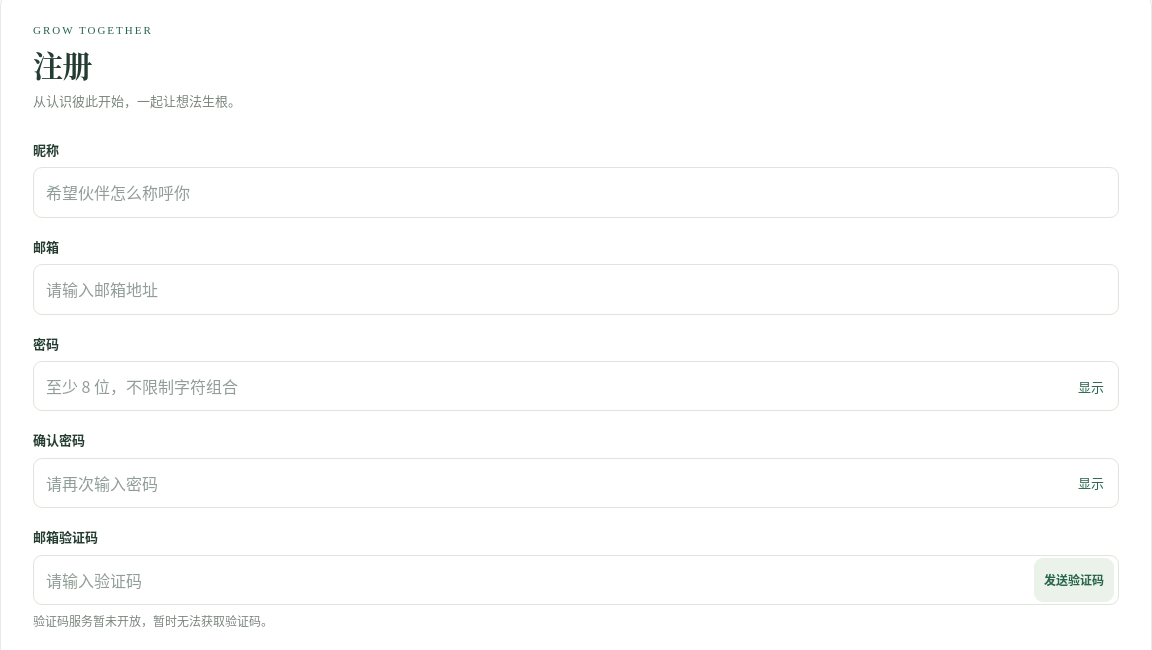
Test: 登录注册表单 › 注册保留密码空格、不猜验证码格式、不请求或持久化敏感数据
Type "禾苗" into the field with id "auth-nickname" at (576, 193), box [34,168,1118,217]
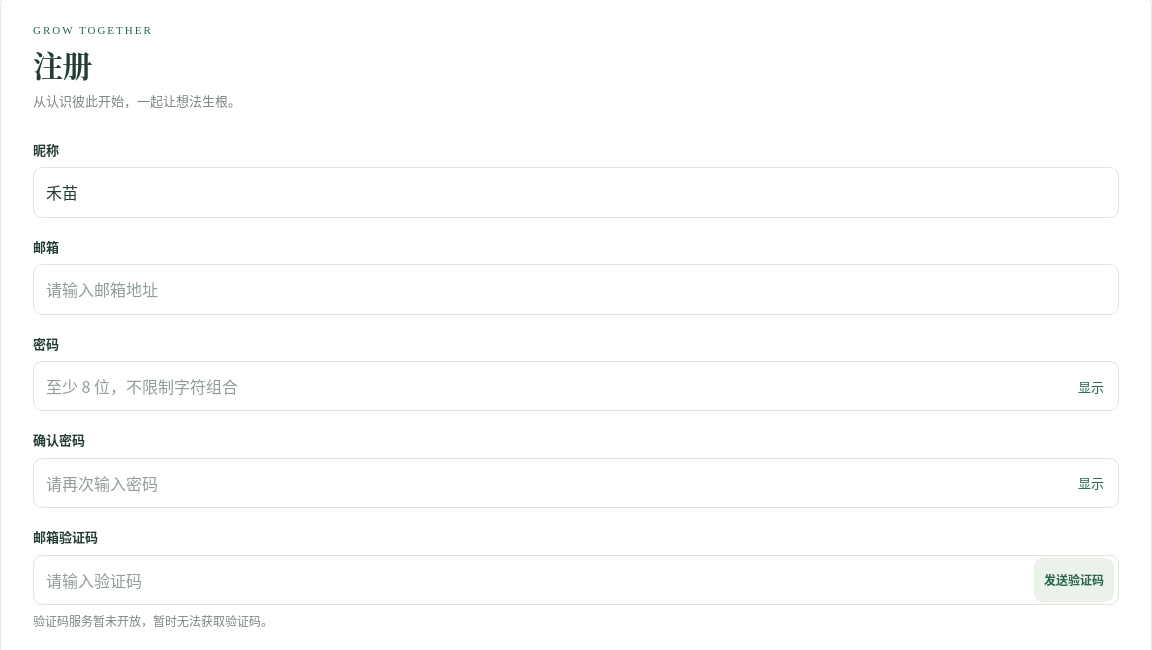
Type "student@example.com" into the field labelled "邮箱" at (576, 289), box [34,265,1118,314]
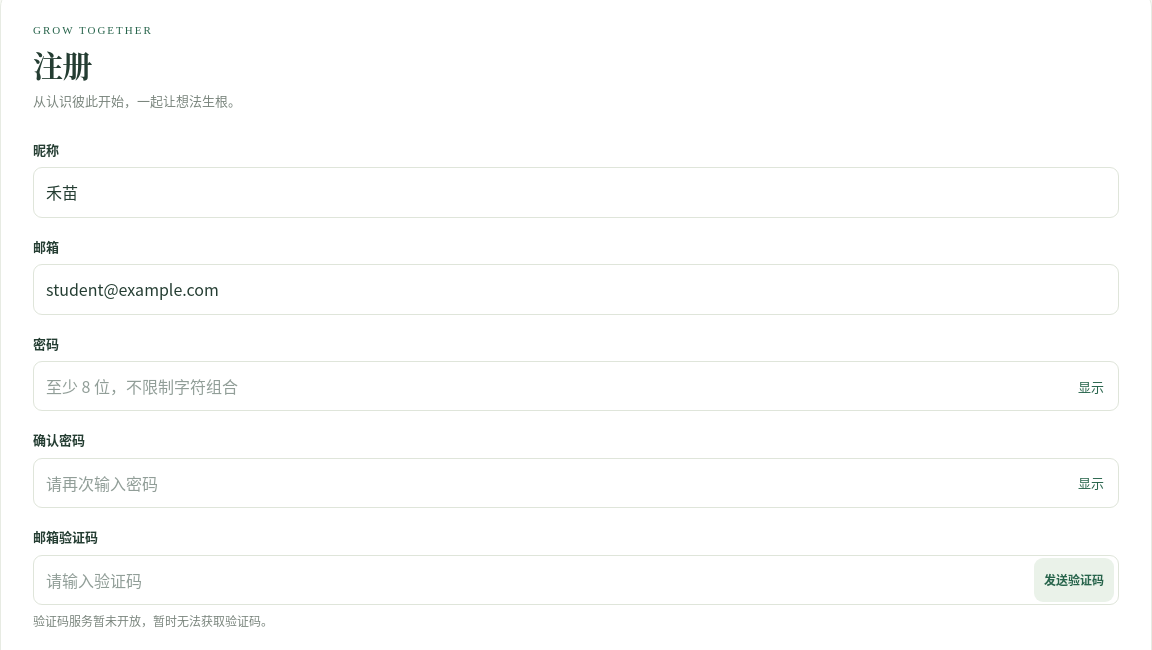
Type " 123456 " into the password field with id "auth-password" at (551, 386), box [34,362,1068,410]
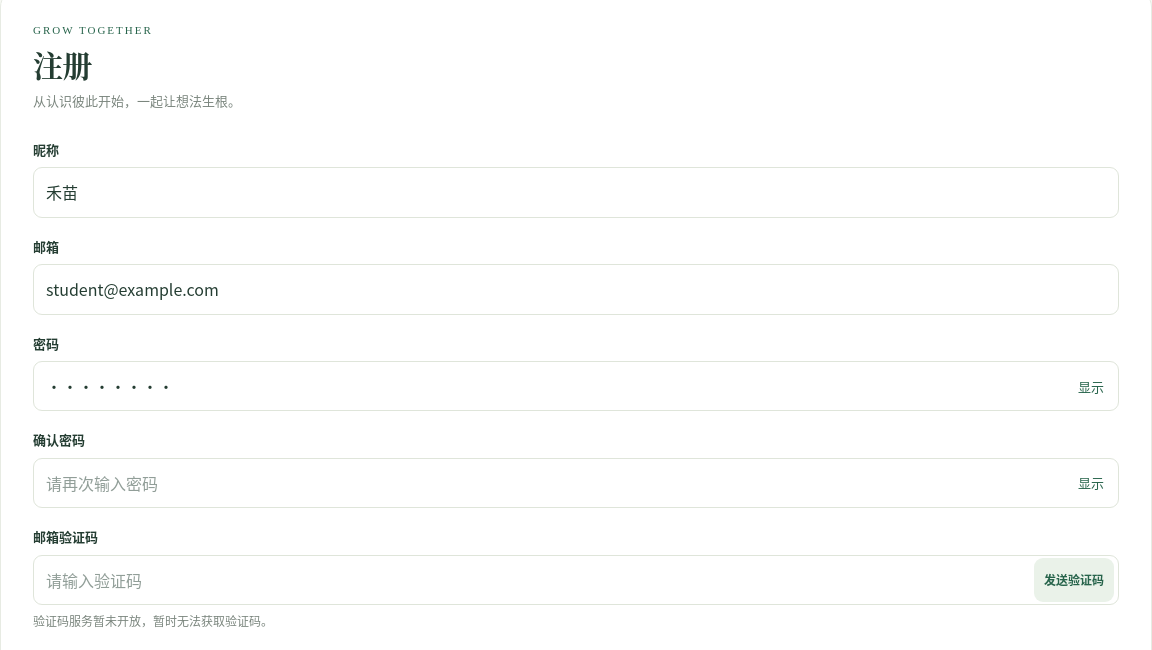
Type " 123456 " into the password field labelled "确认密码" at (551, 483), box [34,459,1068,507]
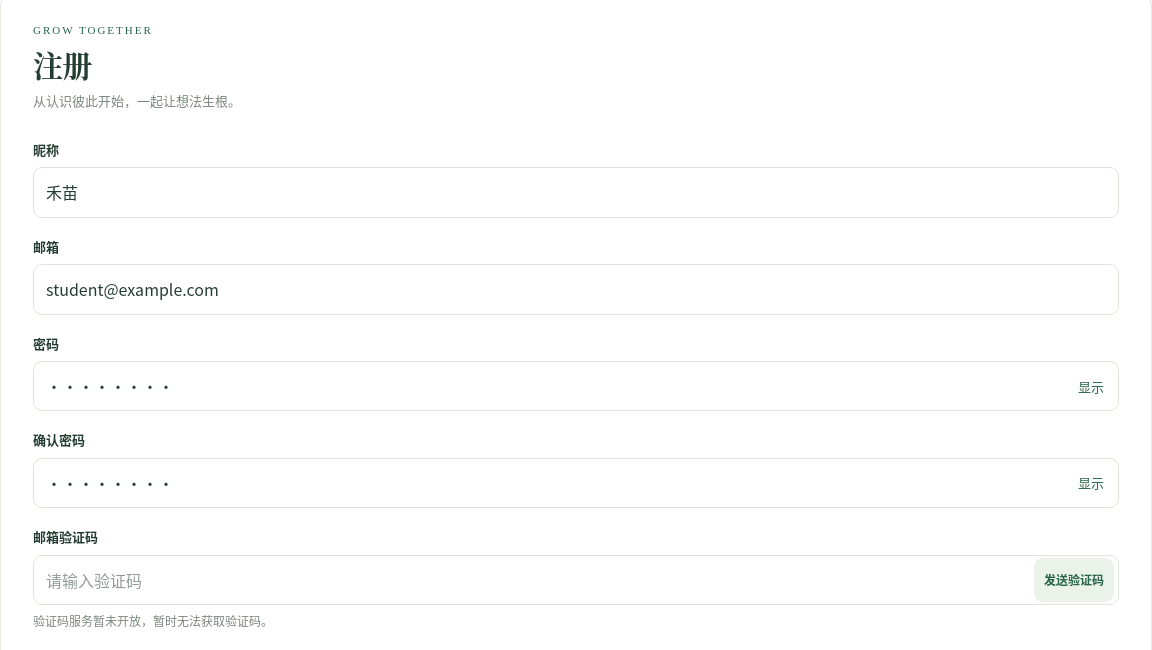
Type "arbitrary-code" into the field labelled "邮箱验证码" at (534, 580), box [34,556,1034,604]
(page scrolled)
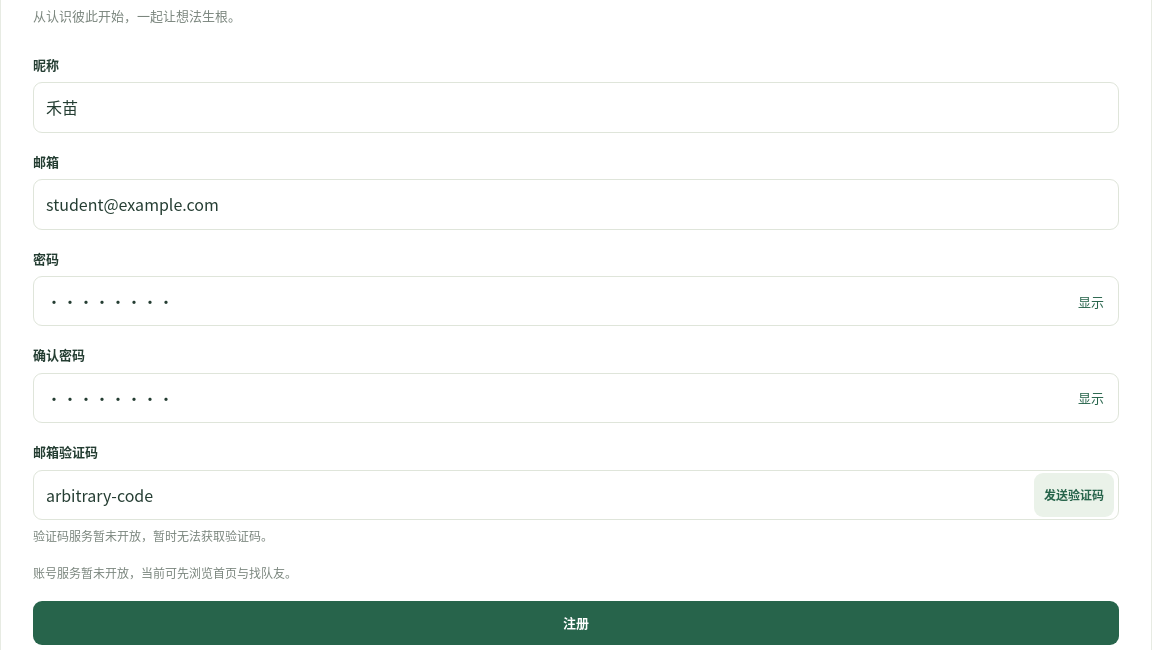
Submit the form
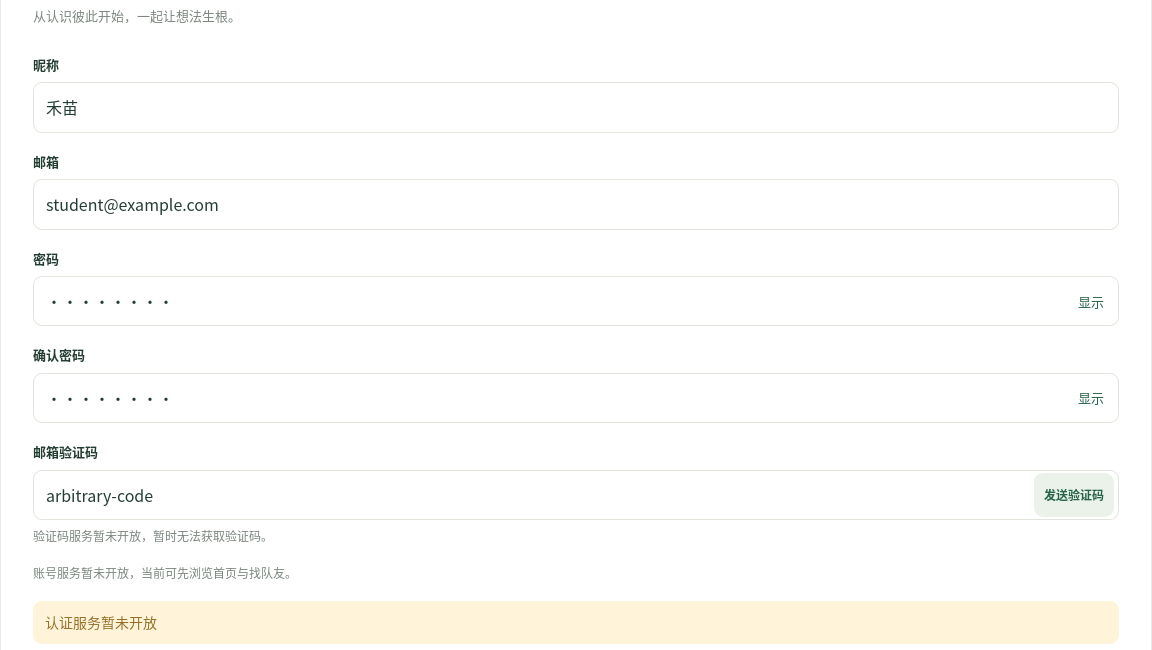
Check: the message "认证服务暂未开放" is shown, box [33,601,1119,644]
